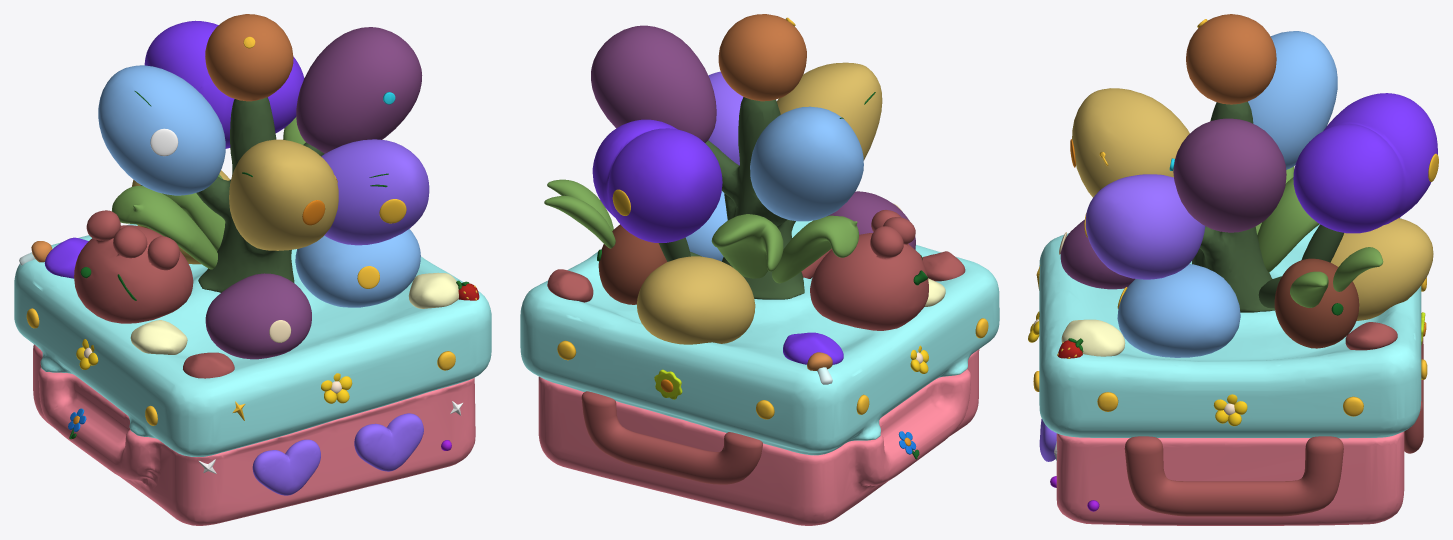
The model's file is CuteToyPlant3dModel1.fbx.
The picture shows the model from 3 angles, left to right: view 1: azimuth 30°, elevation 25°; view 2: azimuth 150°, elevation 25°; view 3: azimuth 270°, elevation 25°; orthographic projection. The views are drawn at different scales.
Parts seen in each view (by area): view 1: M_CuteToyPlant3dModel1, S_CuteToyPlant3dModel1, D_CuteToyPlant3dModel1_1, D_CuteToyPlant3dModel1_11; view 2: M_CuteToyPlant3dModel1, S_CuteToyPlant3dModel1, D_CuteToyPlant3dModel1_4, D_CuteToyPlant3dModel1_5; view 3: M_CuteToyPlant3dModel1, S_CuteToyPlant3dModel1, D_CuteToyPlant3dModel1_3.
Part boxes in pixels (left/top/right/bottom): M_CuteToyPlant3dModel1: left=14, top=14, right=491, bottom=525; S_CuteToyPlant3dModel1: left=252, top=439, right=320, bottom=495; D_CuteToyPlant3dModel1_1: left=321, top=373, right=352, bottom=403; D_CuteToyPlant3dModel1_11: left=150, top=128, right=178, bottom=156; M_CuteToyPlant3dModel1: left=520, top=14, right=999, bottom=525; S_CuteToyPlant3dModel1: left=581, top=391, right=762, bottom=484; D_CuteToyPlant3dModel1_4: left=654, top=369, right=682, bottom=399; D_CuteToyPlant3dModel1_5: left=807, top=352, right=832, bottom=384; M_CuteToyPlant3dModel1: left=1039, top=14, right=1437, bottom=525; S_CuteToyPlant3dModel1: left=1124, top=337, right=1423, bottom=516; D_CuteToyPlant3dModel1_3: left=1213, top=394, right=1247, bottom=426.
Size of the model in its own units: 687 by 820 by 698.
